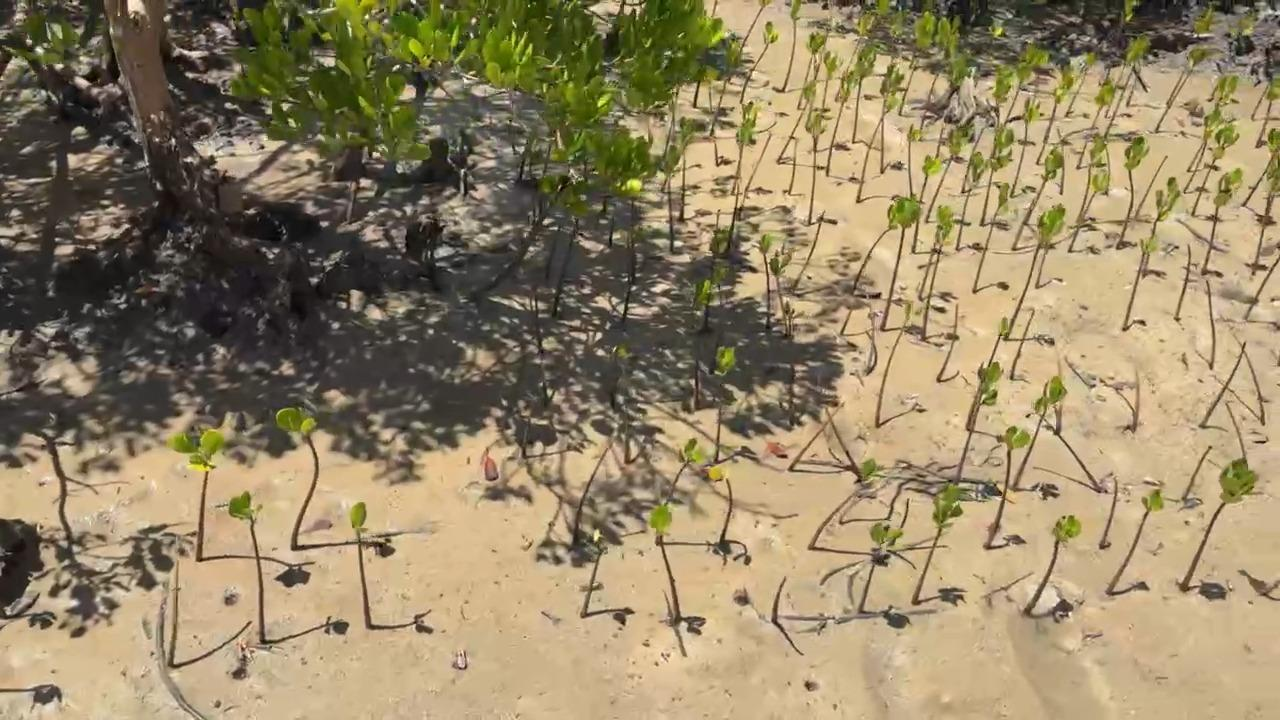Tree: (1182, 459, 1258, 589), (1006, 207, 1066, 337), (911, 483, 972, 606), (274, 406, 321, 549), (171, 426, 220, 563), (807, 459, 881, 549), (1104, 489, 1165, 595), (954, 361, 1005, 481), (878, 196, 923, 330), (1014, 377, 1068, 487), (984, 425, 1031, 550), (1024, 514, 1082, 615), (1010, 148, 1066, 250), (874, 301, 918, 429), (962, 318, 1011, 431), (228, 490, 263, 647), (925, 123, 977, 226), (1187, 73, 1241, 172), (1220, 316, 1266, 426), (972, 181, 1015, 296), (1155, 48, 1213, 133), (1166, 7, 1216, 105), (1038, 415, 1101, 492), (1189, 123, 1239, 220), (857, 95, 901, 202), (1202, 168, 1245, 275), (858, 521, 903, 615), (1200, 339, 1247, 428), (850, 205, 899, 288), (1001, 46, 1048, 132), (1116, 137, 1152, 249), (788, 401, 847, 469), (823, 70, 860, 177), (1067, 169, 1114, 252), (920, 226, 953, 343), (1183, 109, 1228, 194), (1104, 35, 1150, 118), (648, 506, 681, 619), (908, 153, 944, 255), (916, 207, 956, 298), (573, 446, 611, 540), (346, 502, 374, 628), (956, 152, 993, 247), (979, 128, 1015, 225), (738, 20, 779, 105), (776, 81, 819, 162), (689, 281, 717, 405), (731, 0, 774, 79), (1122, 235, 1158, 329), (823, 407, 866, 485), (1011, 96, 1043, 197), (1041, 65, 1083, 141), (1250, 167, 1280, 273), (710, 346, 736, 466), (802, 111, 829, 226), (877, 64, 906, 171), (1078, 86, 1114, 168), (853, 44, 882, 145), (792, 209, 826, 294), (1243, 129, 1280, 207), (613, 345, 637, 465), (552, 217, 580, 317), (929, 18, 963, 100), (665, 437, 705, 506), (729, 100, 758, 195), (701, 230, 728, 332), (1078, 136, 1109, 219), (1102, 65, 1135, 141), (798, 31, 830, 109), (1037, 204, 1067, 287), (1065, 51, 1100, 119), (1244, 255, 1280, 318), (580, 531, 606, 618), (1135, 155, 1170, 219), (769, 245, 793, 337), (990, 67, 1015, 153), (842, 13, 877, 74), (660, 143, 679, 252), (680, 116, 700, 219), (782, 0, 803, 93), (743, 132, 775, 193), (934, 305, 960, 380), (710, 466, 734, 545), (1011, 309, 1036, 377), (1254, 84, 1280, 148), (908, 13, 937, 67), (1185, 445, 1213, 500), (757, 233, 772, 333), (167, 560, 181, 667), (1251, 71, 1280, 122), (1173, 245, 1192, 318), (963, 127, 984, 190), (706, 78, 721, 163), (710, 77, 731, 136), (1226, 403, 1247, 459), (868, 1, 894, 45), (725, 183, 741, 252), (899, 60, 919, 112), (946, 56, 970, 98), (622, 273, 641, 323), (891, 498, 911, 545), (906, 123, 918, 200), (1207, 280, 1216, 368), (771, 577, 786, 627), (788, 138, 801, 194), (1058, 129, 1069, 195), (1132, 372, 1142, 432), (840, 306, 856, 336), (1125, 84, 1137, 109), (711, 0, 724, 18), (693, 81, 702, 106)
